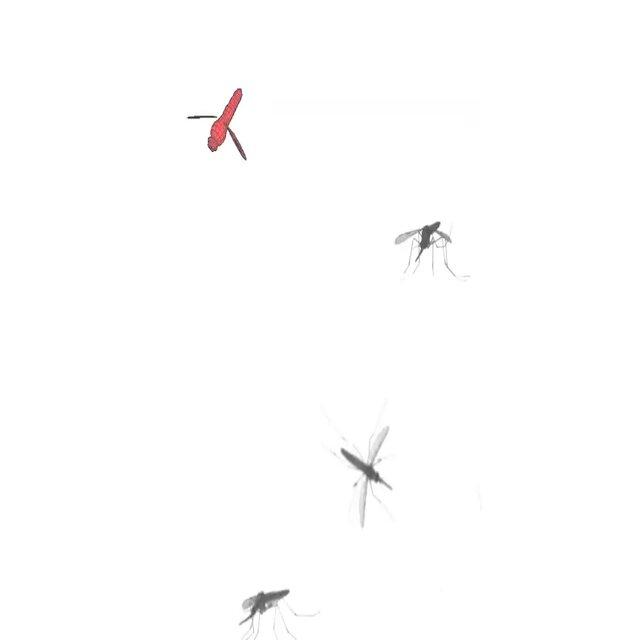mosquitos: (395, 221, 460, 278), (341, 448, 391, 489), (241, 589, 289, 624)
